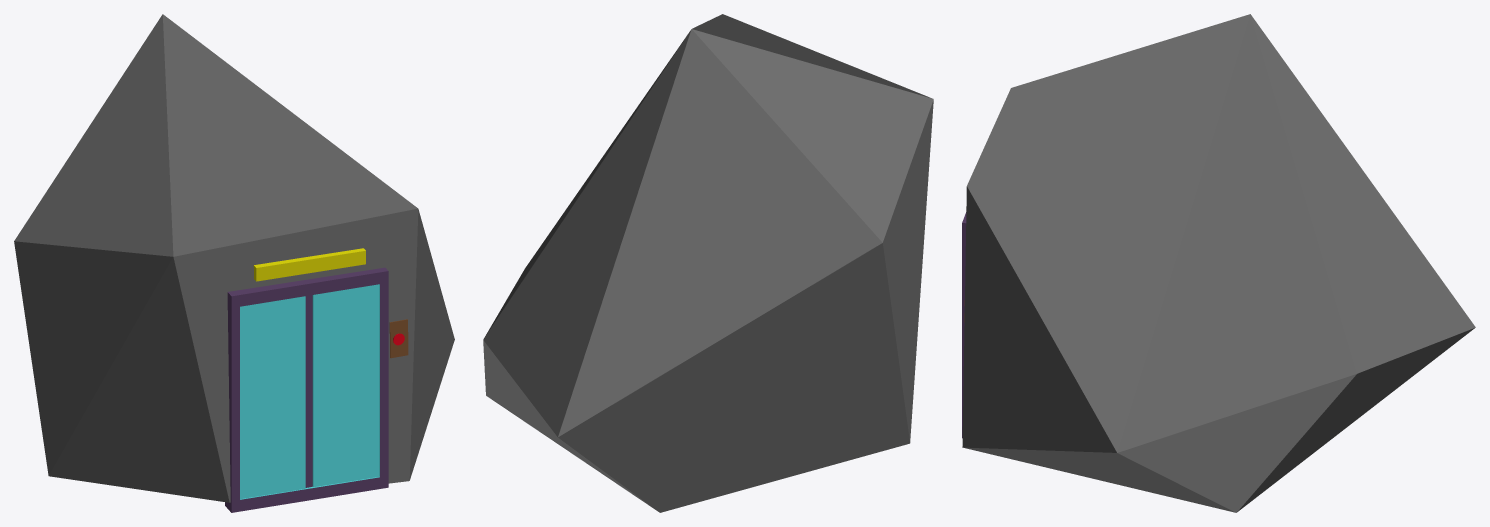
The model's file is CaveMartTownGate.fbx.
3 views of the same model, side by side, from view 1: azimuth 30°, elevation 25°; view 2: azimuth 150°, elevation 25°; view 3: azimuth 270°, elevation 25° (orthographic). The views are drawn at different scales.
Visible parts, largest first — view 1: Cylinder; view 2: Cylinder; view 3: Cylinder.
Part boxes in pixels (left/top/right/bottom): Cylinder: left=14, top=14, right=454, bottom=512; Cylinder: left=483, top=14, right=933, bottom=512; Cylinder: left=962, top=14, right=1475, bottom=512.
Bounding box in the file's own units: 769 × 780 × 881.
